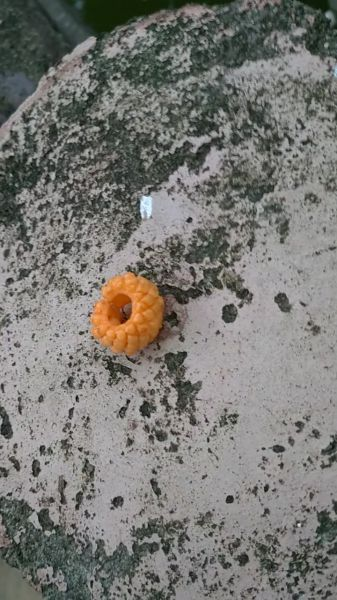eggs: (88, 267, 166, 359)
